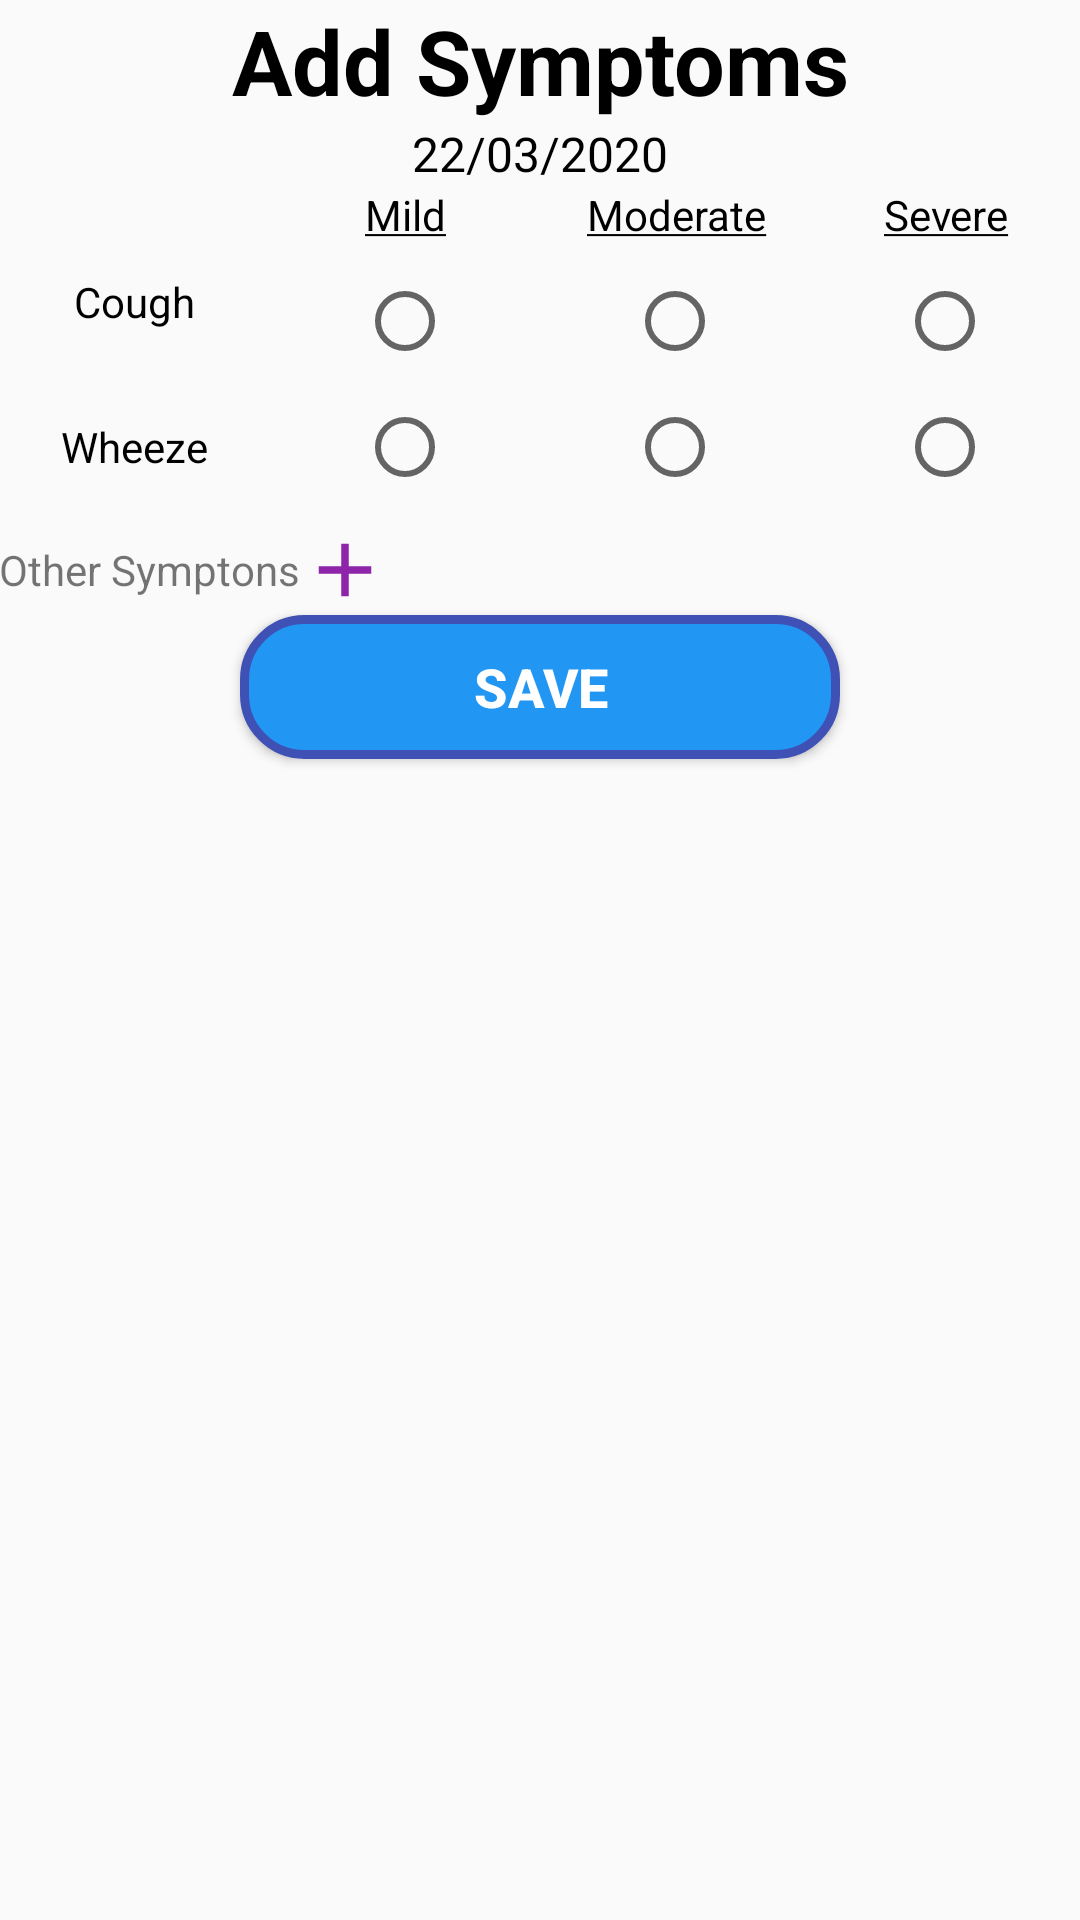

Where icons sit on this 1080w x 1920h app screen, as (x1, y1, x2, y2):
add: (318, 543, 372, 597)
